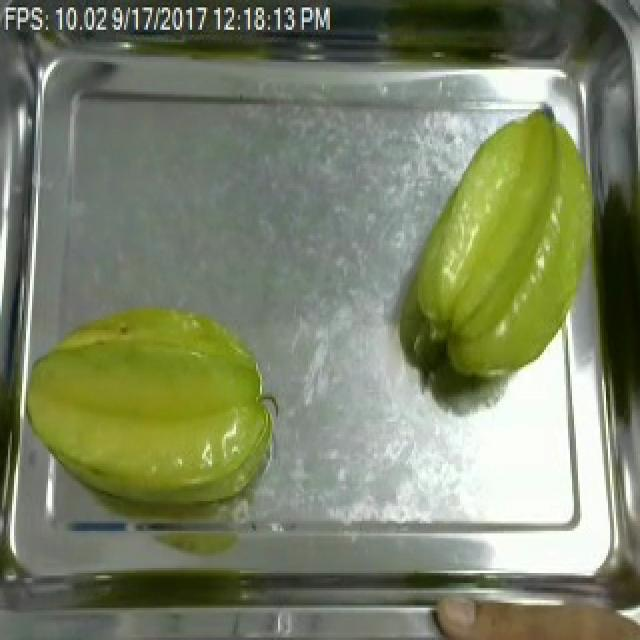fruit: (16, 296, 284, 528), (404, 102, 608, 397), (422, 578, 640, 640)
